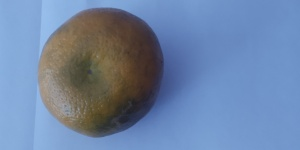BAD: (36, 5, 165, 139)
